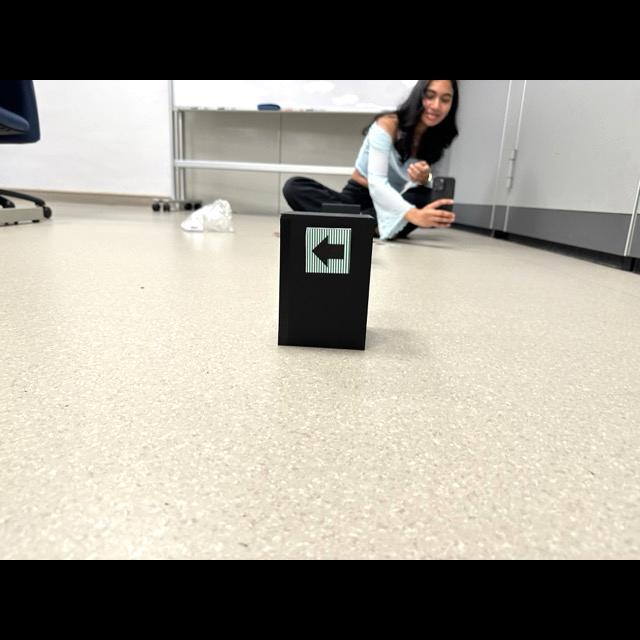LEFT: (312, 237, 344, 266)
